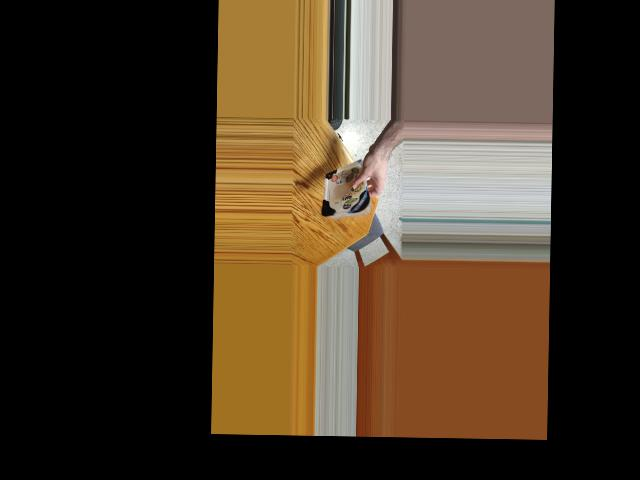cheese: (324, 170, 373, 222)
